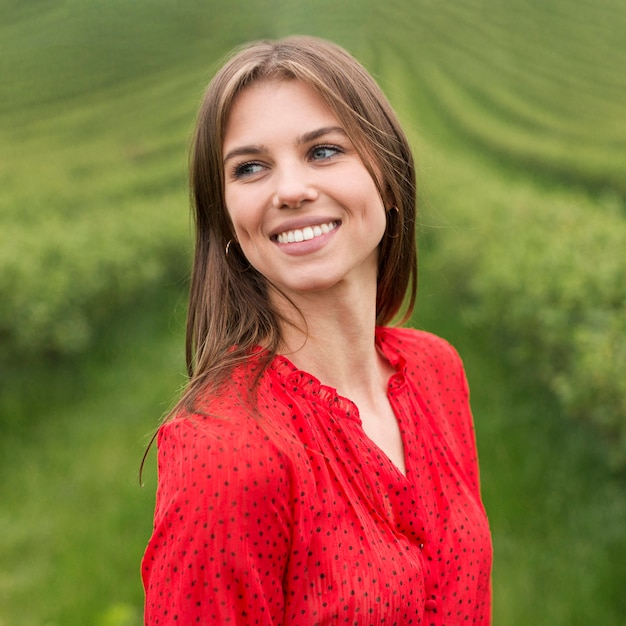teen: (160, 27, 420, 343)
